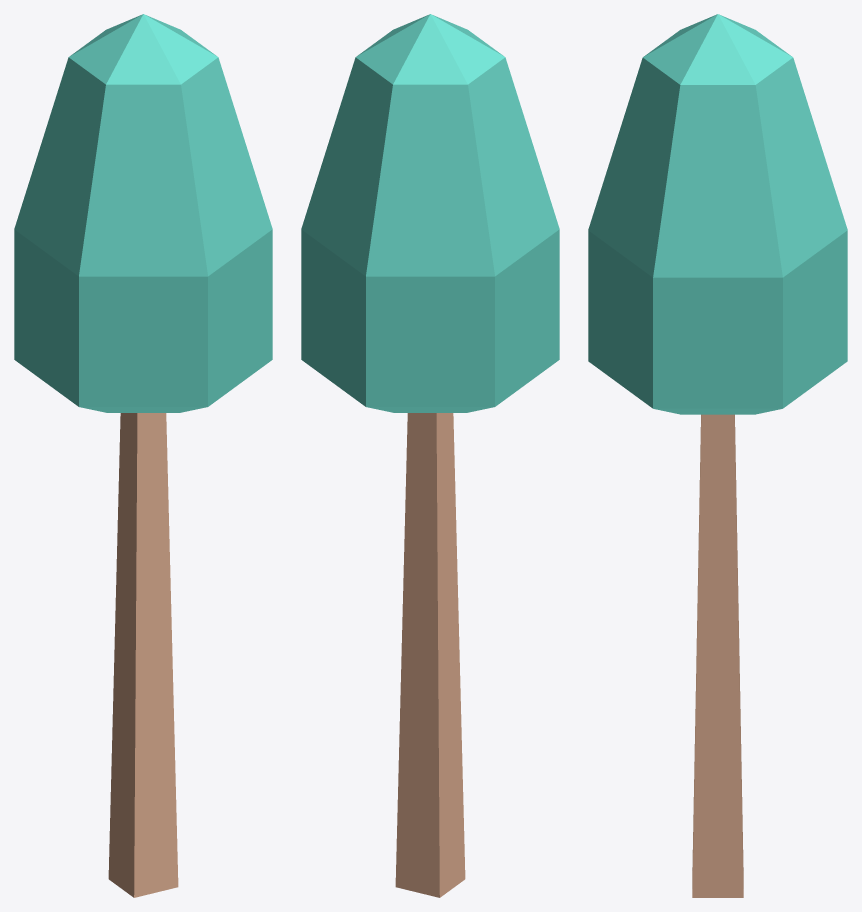
The model's file is tree_simple.gltf.
3 renders of one model, left to right at view 1: azimuth 30°, elevation 25°; view 2: azimuth 150°, elevation 25°; view 3: azimuth 270°, elevation 25°, orthographic.
Parts seen in each view (by area): view 1: tree_simple; view 2: tree_simple; view 3: tree_simple.
Part boxes in pixels (box(x1,y1,x2,y2)): tree_simple: box(14, 14, 272, 897); tree_simple: box(301, 14, 559, 897); tree_simple: box(588, 14, 847, 897).
Size of the model in its own units: 0.3546 by 1.52 by 0.4095.
